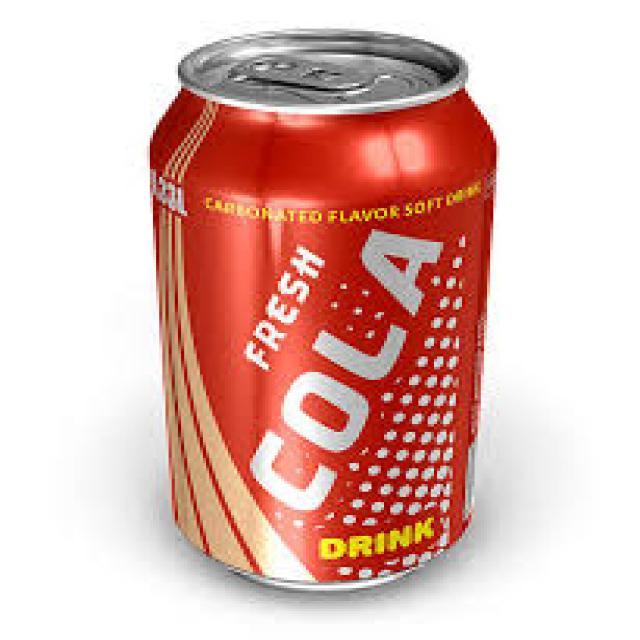Cans: (128, 11, 528, 598)
